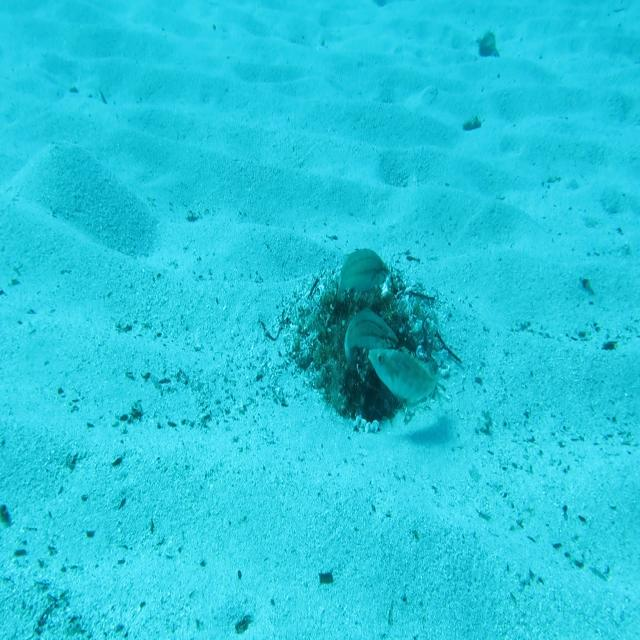DAN_CIRC: (367, 346, 443, 408)
core_nest: (338, 286, 382, 322)
female: (344, 306, 398, 379), (334, 245, 390, 307)
nest: (281, 255, 454, 438)
vegetation: (476, 28, 502, 62), (462, 114, 482, 134), (318, 565, 334, 589)
